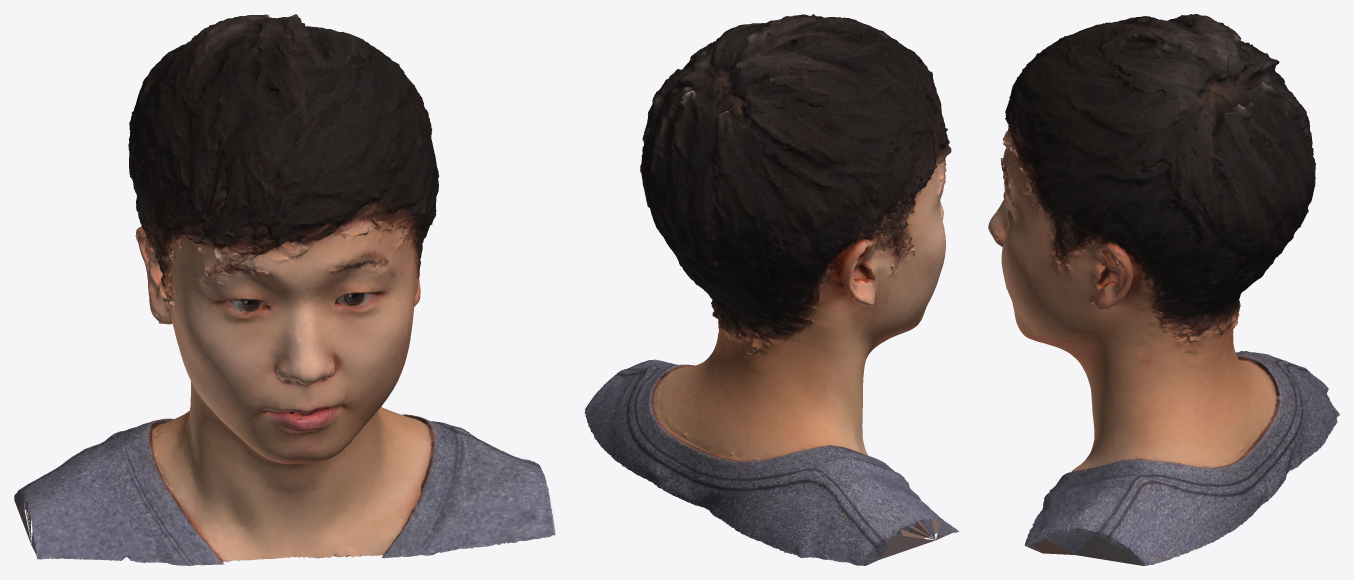
File: 真人头像_男_短发侧脸男子01_opt.glb
3 views of the same model, side by side, from view 1: azimuth 30°, elevation 25°; view 2: azimuth 150°, elevation 25°; view 3: azimuth 270°, elevation 25° (orthographic). The views are drawn at different scales.
Visible parts, largest first — view 1: kth_Material_u1_v1, kth_Material_u1_v1_2, kth_Material_u1_v1_1, kth_Material_u1_v1_3; view 2: kth_Material_u1_v1, kth_Material_u1_v1_2, kth_Material_u1_v1_1, kth_Material_u1_v1_3; view 3: kth_Material_u1_v1, kth_Material_u1_v1_1, kth_Material_u1_v1_2.
Part boxes in pixels (<box>): kth_Material_u1_v1: <box>15,14,555,565</box>; kth_Material_u1_v1_2: <box>14,16,307,565</box>; kth_Material_u1_v1_1: <box>23,14,555,565</box>; kth_Material_u1_v1_3: <box>18,17,306,565</box>; kth_Material_u1_v1: <box>585,14,958,565</box>; kth_Material_u1_v1_2: <box>681,35,951,564</box>; kth_Material_u1_v1_1: <box>584,16,952,565</box>; kth_Material_u1_v1_3: <box>678,21,951,565</box>; kth_Material_u1_v1: <box>988,14,1339,565</box>; kth_Material_u1_v1_1: <box>993,16,1330,565</box>; kth_Material_u1_v1_2: <box>1036,16,1325,409</box>.
Size of the model in its own units: 0.2852 by 0.3 by 0.2165.
1 material, 1 textured.
